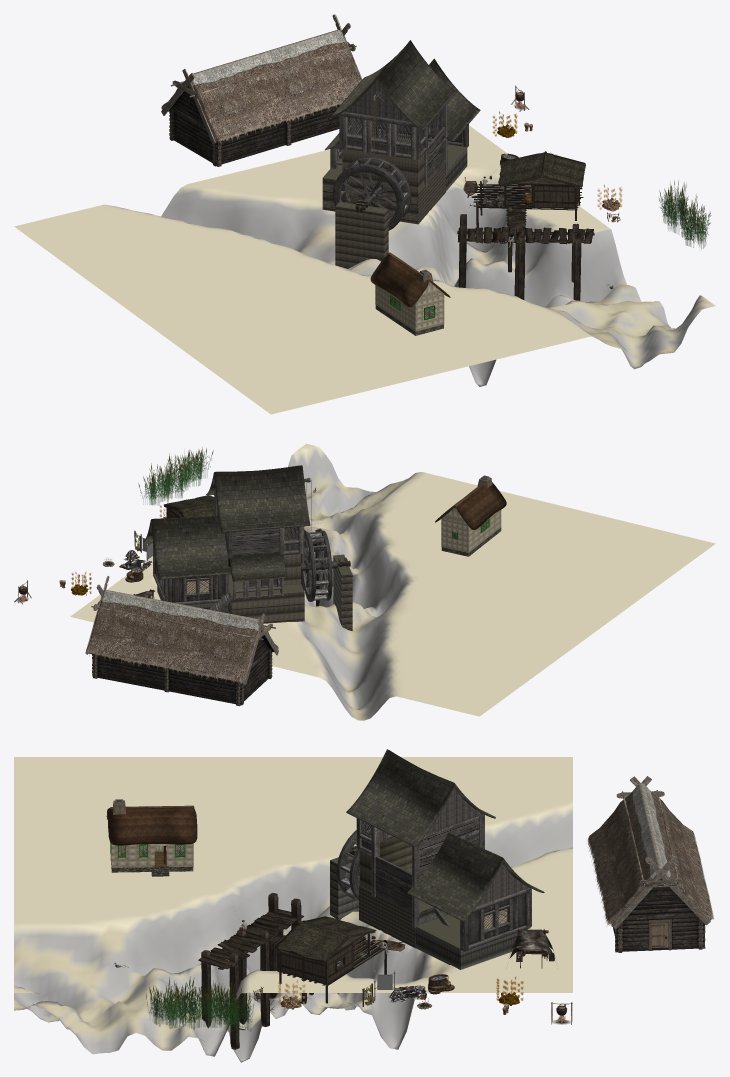
3 views of the same model, one above another, from view 1: azimuth 30°, elevation 25°; view 2: azimuth 150°, elevation 25°; view 3: azimuth 270°, elevation 25° (orthographic). The views are drawn at different scales.
Parts seen in each view (by area): view 1: Terrain 6,2, case x6 Rochambeau Viking House 2#4, Water Wheel house, Sculpt Prim (×5), case x6 Rochambeau Viking House 2#14, Irish Cottage V2, krisha (×2), OW Dock with boat, SHACK FISHING 98 PRIMS maison du pecheur cassee, OW Dock with fish house and boat (linked for easy view), Irish Cottage Blank, Casa Rochambeau Viking House 2; view 2: Terrain 6,2, Sculpt Prim (×6), case x6 Rochambeau Viking House 2#4, Water Wheel house, case x6 Rochambeau Viking House 2#14, Irish Cottage V2, Water - Reed Mace-large1 (×3), Tudor Wallset1K Window, Casa Rochambeau Viking House 2, Irish Cottage Blank, case x6 Rochambeau Viking House 2#3, Tudor Wallset1 Doorway; view 3: Terrain 6,2, Sculpt Prim (×6), Water Wheel house, case x6 Rochambeau Viking House 2#4, Irish Cottage V2, case x6 Rochambeau Viking House 2#14, krisha (×2), SHACK FISHING 98 PRIMS maison du pecheur cassee, OW Dock with boat, doski (×3), Water - Reed Mace-large1 (×3), Tudor Wallset1K Window (+6 smaller).
Boxes of the visible parts, bbox=[...] form: Terrain 6,2: bbox=[14, 125, 715, 414]; case x6 Rochambeau Viking House 2#4: bbox=[161, 30, 361, 144]; Water Wheel house: bbox=[322, 108, 467, 268]; Sculpt Prim (×5): bbox=[332, 40, 480, 230]; case x6 Rochambeau Viking House 2#14: bbox=[169, 87, 339, 166]; Irish Cottage V2: bbox=[370, 252, 450, 335]; krisha (×2): bbox=[498, 152, 585, 187]; OW Dock with boat: bbox=[457, 227, 594, 244]; SHACK FISHING 98 PRIMS maison du pecheur cassee: bbox=[469, 185, 579, 299]; OW Dock with fish house and boat (linked for easy view): bbox=[471, 184, 532, 209]; Irish Cottage Blank: bbox=[375, 285, 415, 331]; Casa Rochambeau Viking House 2: bbox=[161, 14, 362, 144]; Terrain 6,2: bbox=[70, 443, 715, 720]; Sculpt Prim (×6): bbox=[150, 465, 332, 601]; case x6 Rochambeau Viking House 2#4: bbox=[85, 590, 278, 683]; Water Wheel house: bbox=[155, 503, 352, 630]; case x6 Rochambeau Viking House 2#14: bbox=[92, 637, 272, 706]; Irish Cottage V2: bbox=[435, 475, 506, 556]; Water - Reed Mace-large1 (×3): bbox=[146, 450, 204, 504]; Tudor Wallset1K Window: bbox=[167, 574, 228, 605]; Casa Rochambeau Viking House 2: bbox=[85, 576, 278, 684]; Irish Cottage Blank: bbox=[468, 510, 501, 552]; case x6 Rochambeau Viking House 2#3: bbox=[91, 601, 275, 641]; Tudor Wallset1 Doorway: bbox=[279, 526, 303, 555]; Terrain 6,2: bbox=[14, 757, 572, 1062]; Sculpt Prim (×6): bbox=[337, 749, 529, 921]; Water Wheel house: bbox=[330, 816, 527, 969]; case x6 Rochambeau Viking House 2#4: bbox=[587, 783, 713, 925]; Irish Cottage V2: bbox=[106, 799, 197, 876]; case x6 Rochambeau Viking House 2#14: bbox=[613, 878, 705, 952]; krisha (×2): bbox=[274, 916, 376, 962]; SHACK FISHING 98 PRIMS maison du pecheur cassee: bbox=[237, 929, 370, 1029]; OW Dock with boat: bbox=[198, 909, 303, 969]; doski (×3): bbox=[201, 930, 269, 1049]; Water - Reed Mace-large1 (×3): bbox=[149, 977, 251, 1029]; Tudor Wallset1K Window: bbox=[460, 888, 530, 951].
Size of what is drawn, in the model's own units: 75.06 by 36.83 by 80.39.
231 materials, 224 textured.
